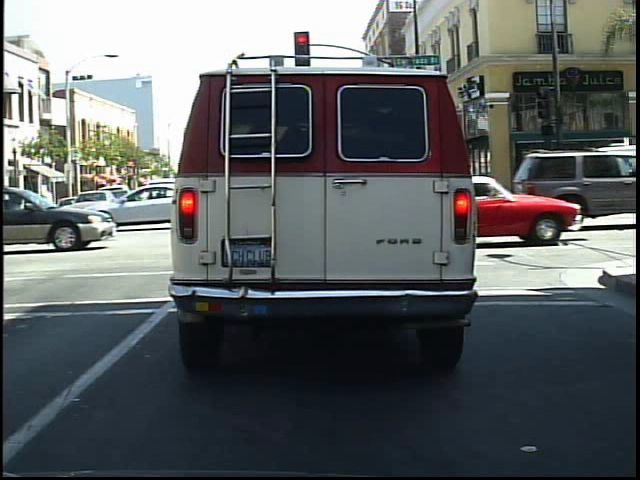person: (594, 142, 618, 209), (538, 152, 562, 209), (513, 156, 535, 207)
